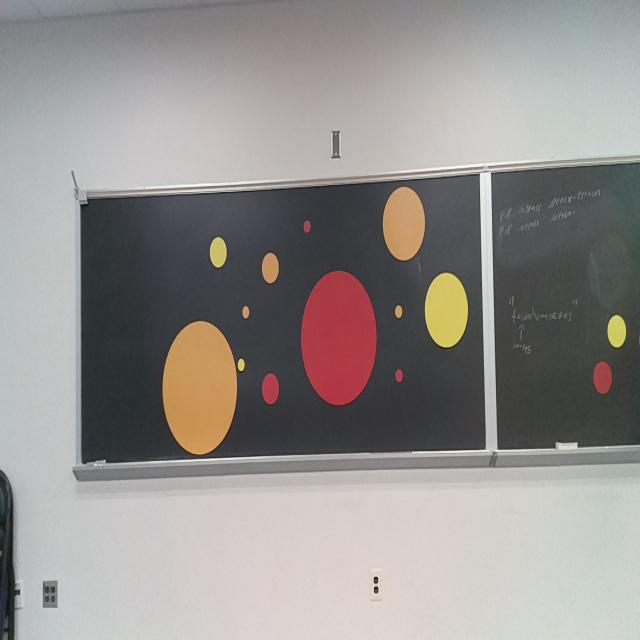Orange: (162, 319, 238, 455), (382, 185, 426, 261), (261, 251, 279, 284), (394, 305, 403, 319), (241, 306, 250, 319)
Red: (300, 269, 378, 407), (593, 360, 612, 396), (262, 372, 279, 405), (302, 220, 312, 234), (394, 369, 404, 382)
Yellow: (424, 270, 469, 348), (607, 313, 626, 348), (209, 235, 227, 268), (237, 358, 246, 372)
